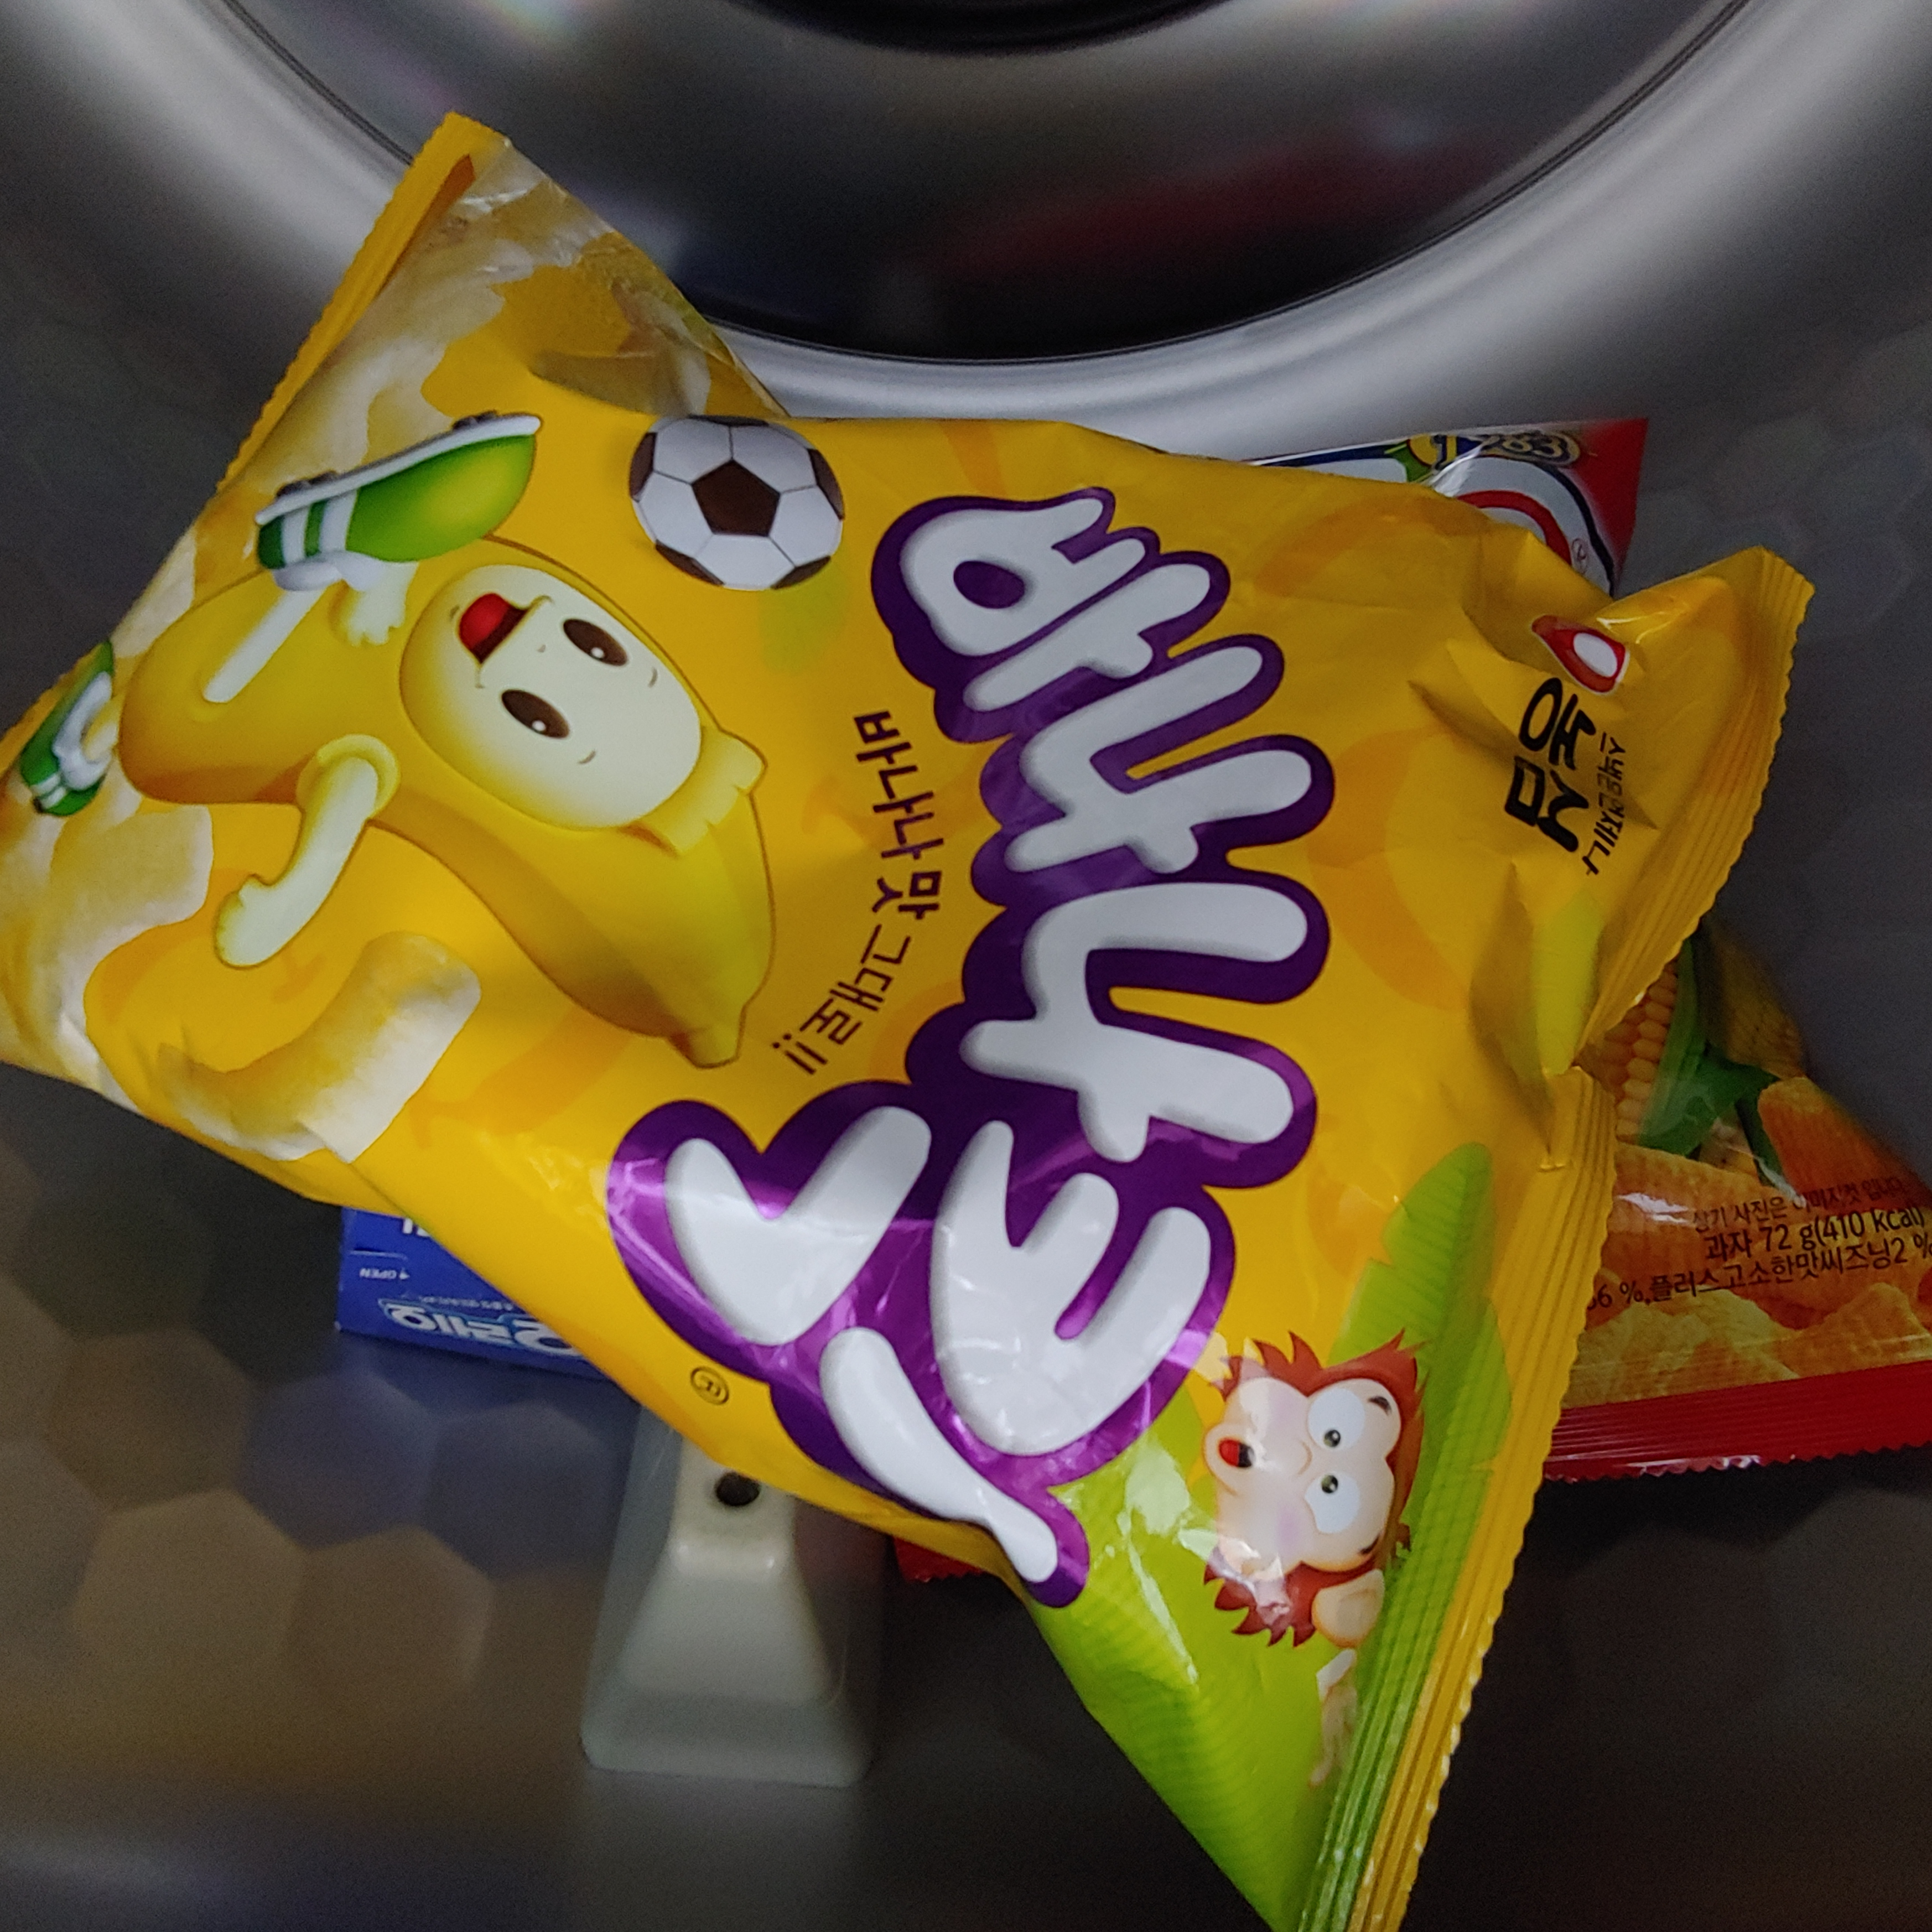banana: (11, 60, 1824, 1932)
ggoggalcon: (1537, 826, 1932, 1523)
oreo: (253, 1116, 644, 1463)
